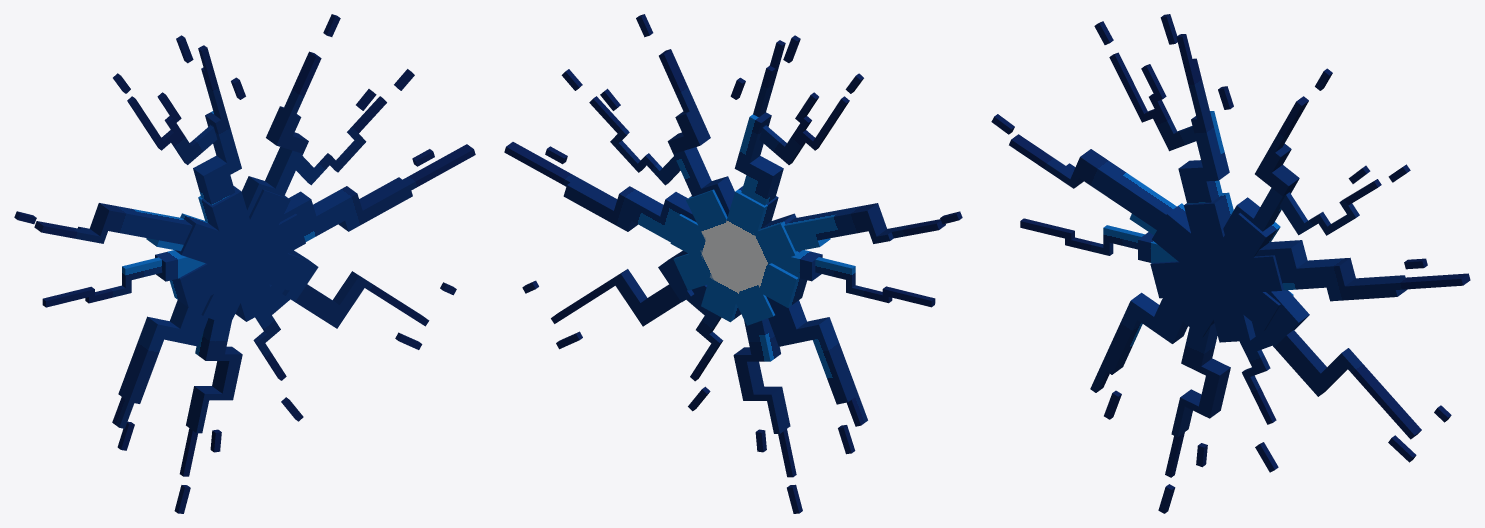
File: icon_divinespark.gltf
The picture shows the model from 3 angles, left to right: view 1: azimuth 30°, elevation 25°; view 2: azimuth 150°, elevation 25°; view 3: azimuth 330°, elevation 25°; orthographic projection. The views are drawn at different scales.
Visible parts, largest first — view 1: spark-Local, M-Local, spark-d-Local, spark-f-Local, middle4-Local, spark-e-Local, b-sp08-Local, spark-c-Local, spark-b-Local, middle2-Local, middle3-Local, b-sp03-Local (+3 smaller); view 2: spark-Local, M-Local, spark-d-Local, spark-f-Local, spark-e-Local, b-sp08-Local, spark-c-Local, spark-b-Local, middle3-Local, middle4-Local, middle2-Local, b-sp03-Local (+3 smaller); view 3: spark-Local, spark-b-Local, M-Local, spark-e-Local, spark-c-Local, b-sp08-Local, middle4-Local, spark-d-Local, spark-f-Local, middle3-Local, middle2-Local, b-sp03-Local (+3 smaller).
Part boxes in pixels (box(x1,y1,x2,y2)): spark-Local: box(280, 144, 475, 241); M-Local: box(198, 186, 275, 321); spark-d-Local: box(112, 296, 210, 428); spark-f-Local: box(241, 51, 321, 216); middle4-Local: box(201, 189, 290, 325); spark-e-Local: box(34, 203, 192, 251); b-sp08-Local: box(179, 318, 242, 476); spark-c-Local: box(193, 45, 241, 205); spark-b-Local: box(282, 250, 429, 328); middle2-Local: box(170, 213, 305, 307); middle3-Local: box(175, 213, 302, 290); b-sp03-Local: box(42, 250, 205, 307); spark-Local: box(504, 142, 696, 242); M-Local: box(701, 186, 778, 322); spark-d-Local: box(766, 296, 867, 426); spark-f-Local: box(659, 49, 734, 216); spark-e-Local: box(784, 203, 945, 251); b-sp08-Local: box(733, 318, 796, 477); spark-c-Local: box(734, 40, 785, 205); spark-b-Local: box(551, 250, 693, 326); middle3-Local: box(673, 213, 801, 290); middle4-Local: box(686, 189, 774, 325); middle2-Local: box(670, 214, 807, 307); b-sp03-Local: box(772, 250, 935, 307); spark-Local: box(1255, 240, 1470, 301); spark-b-Local: box(1264, 290, 1421, 439); M-Local: box(1184, 192, 1255, 342); spark-e-Local: box(1009, 134, 1176, 235); spark-c-Local: box(1176, 34, 1229, 203); b-sp08-Local: box(1165, 323, 1230, 477); middle4-Local: box(1174, 213, 1280, 337); spark-d-Local: box(1090, 292, 1187, 392); spark-f-Local: box(1223, 96, 1308, 234); middle3-Local: box(1152, 203, 1293, 330); middle2-Local: box(1150, 255, 1283, 298); b-sp03-Local: box(1020, 218, 1177, 262).
Size of the model in its own units: 74.39 by 74.37 by 4.6.
29 materials, 29 textured.
